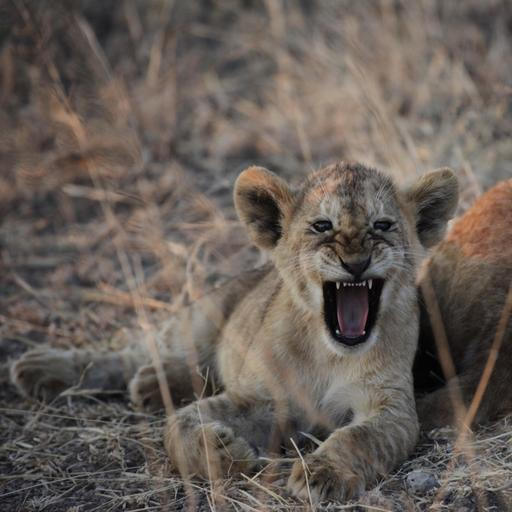Lion: (9, 99, 512, 506)
